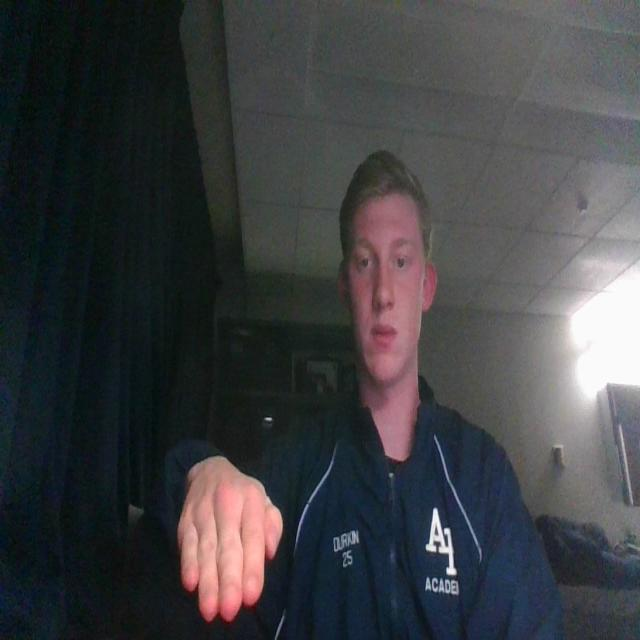paper: (173, 450, 285, 628)
